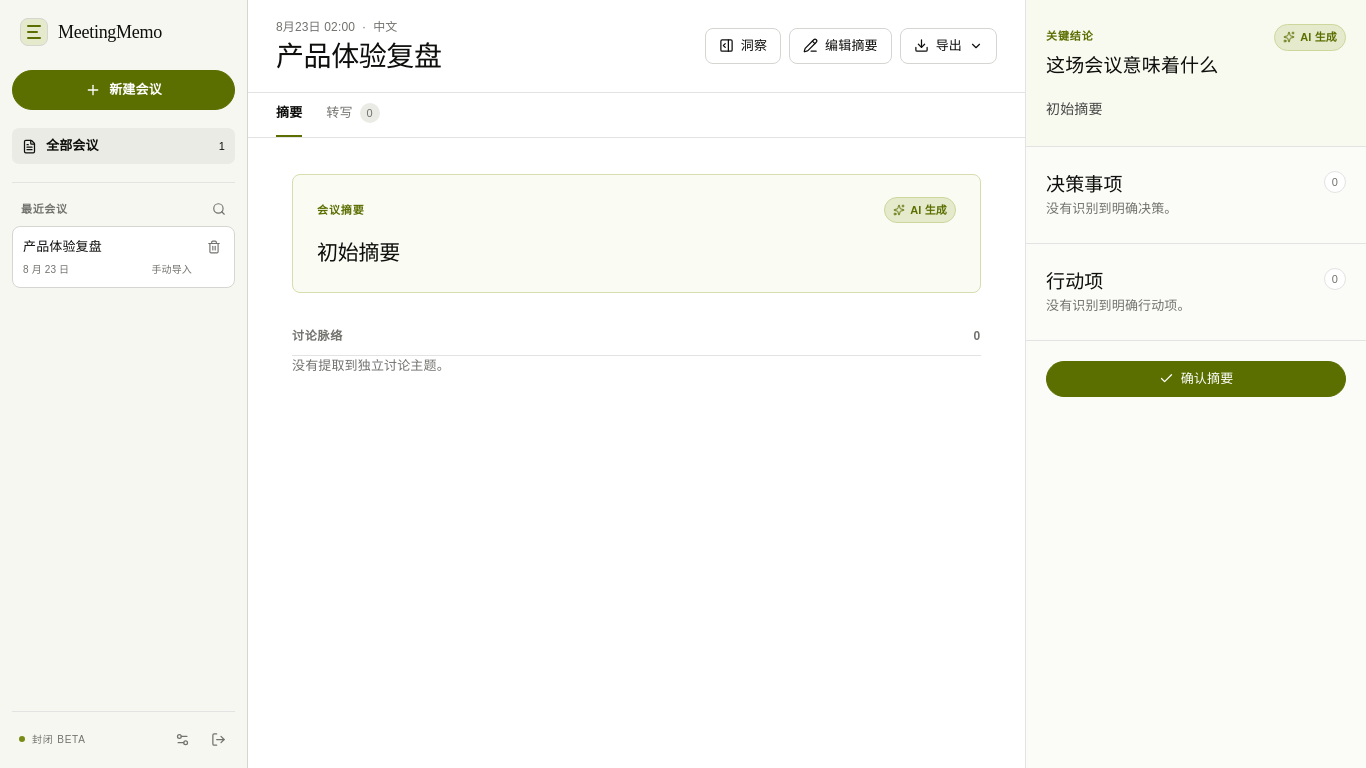
Scenario: MeetingMemoApp › saves summary edits as a new backend version
Click the button "编辑摘要" at (840, 46), box [789,28,892,64]
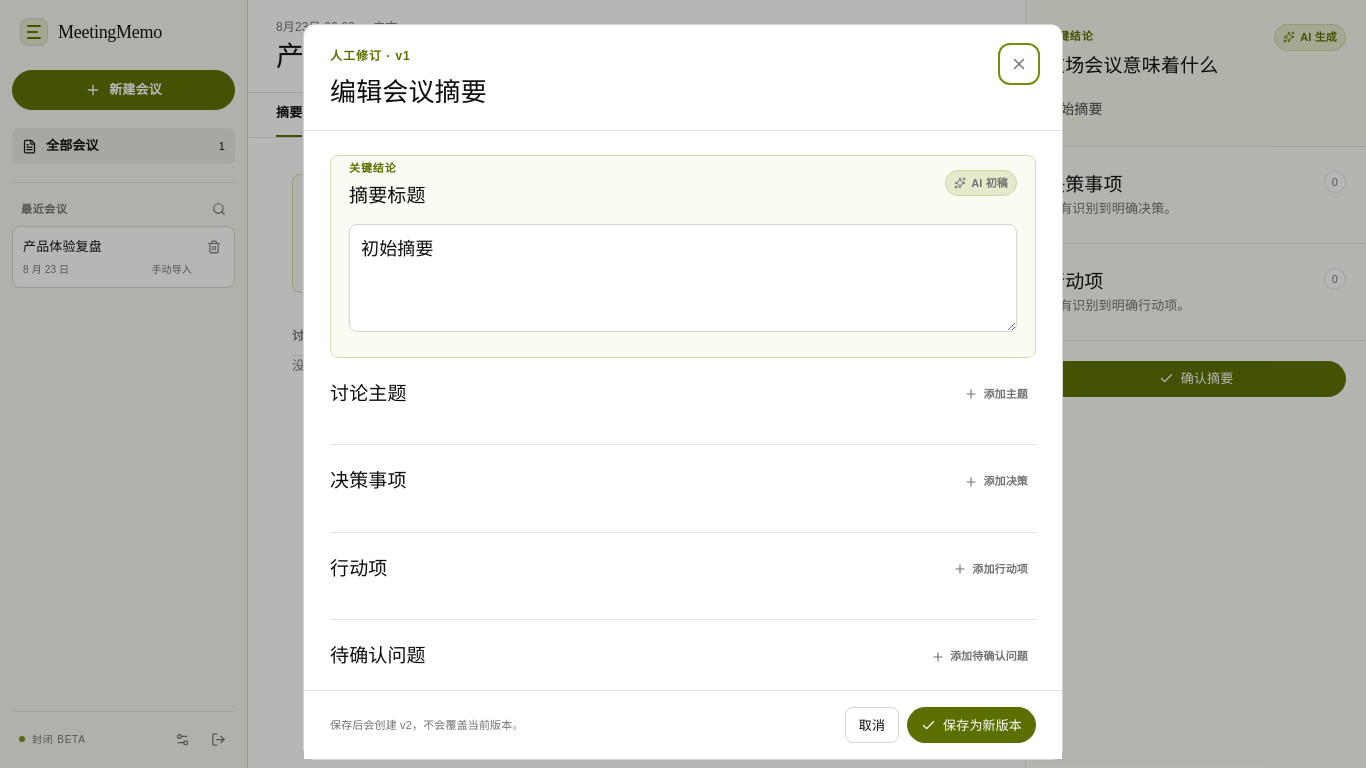
Replace the text in the text box named "摘要标题" with "修订摘要" at (683, 278), box [349,224,1017,332]
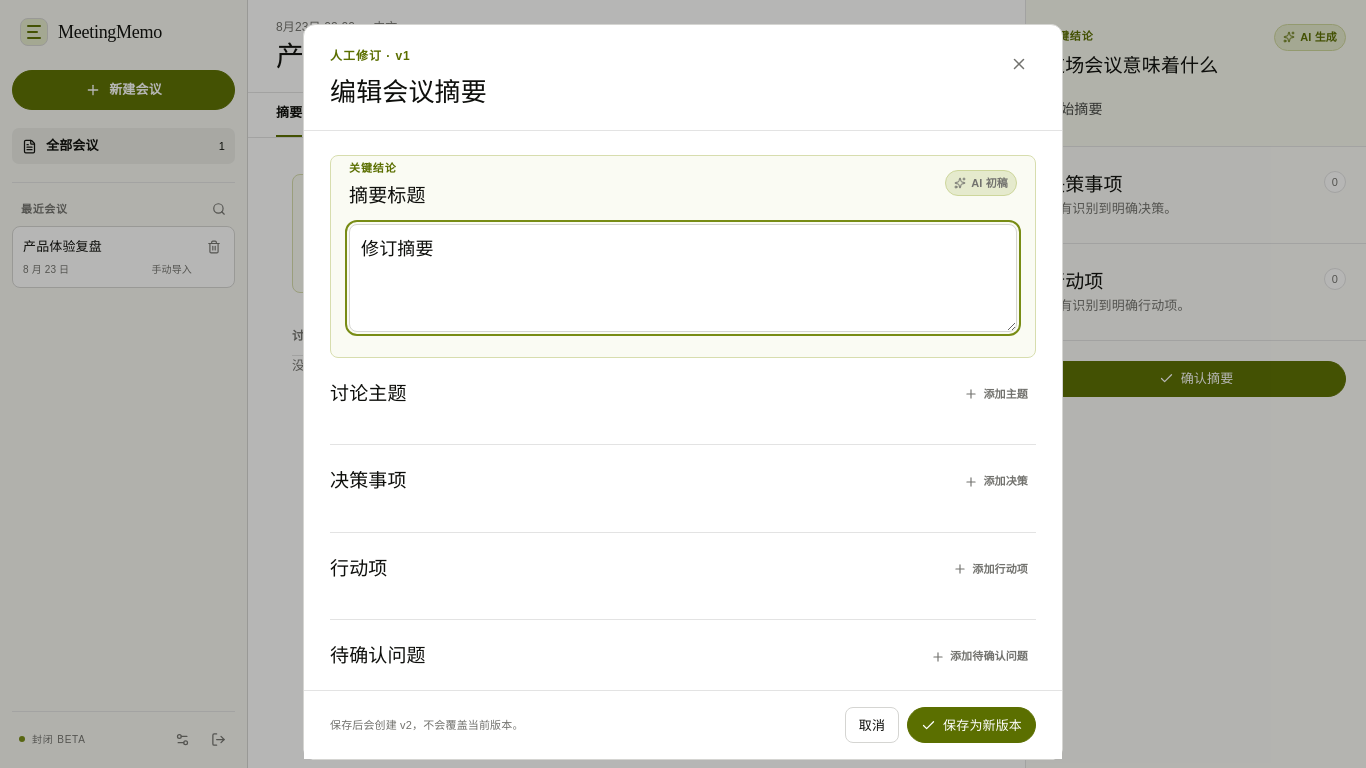
Expected: the button "保存为新版本" is enabled
Click the button "保存为新版本" at (972, 725), box [907,707,1036,743]
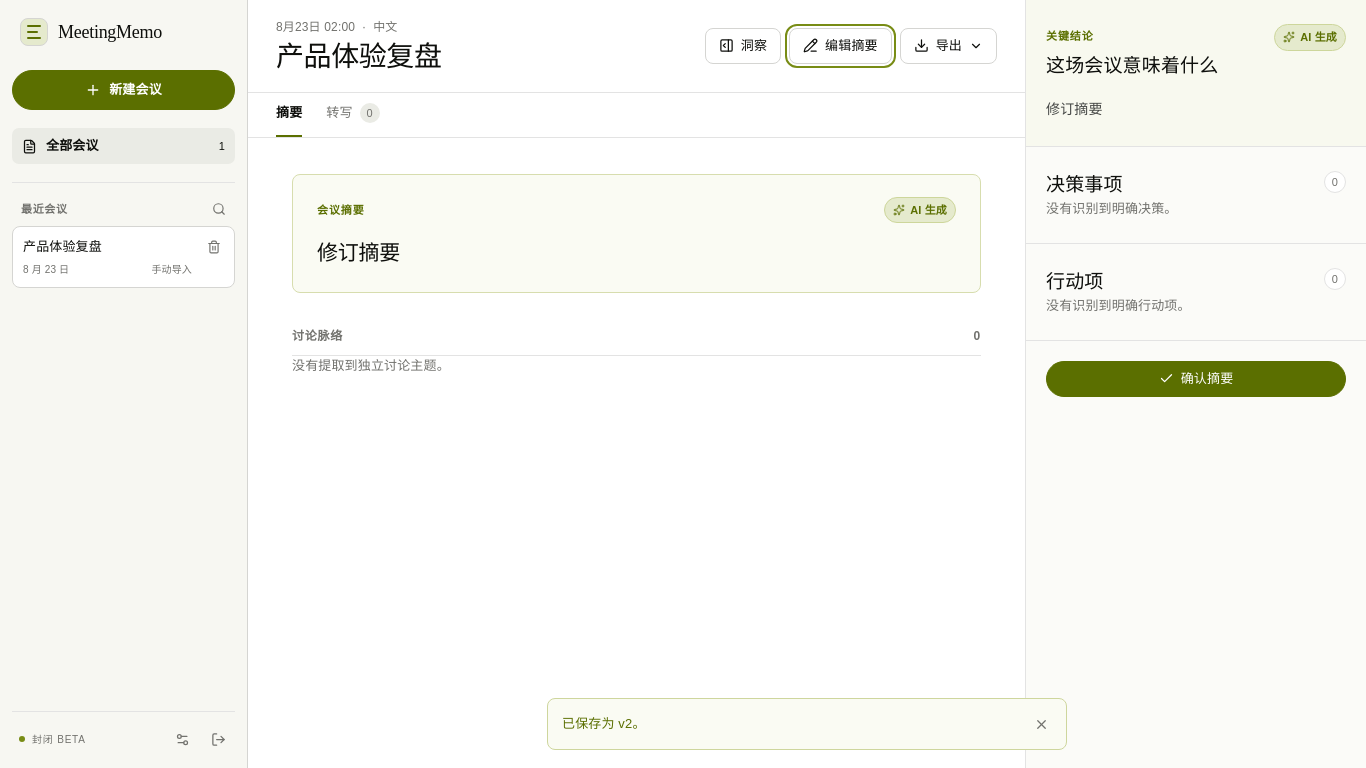
Expected: the message reads "已保存为 v2。", [562,716,646,731]
